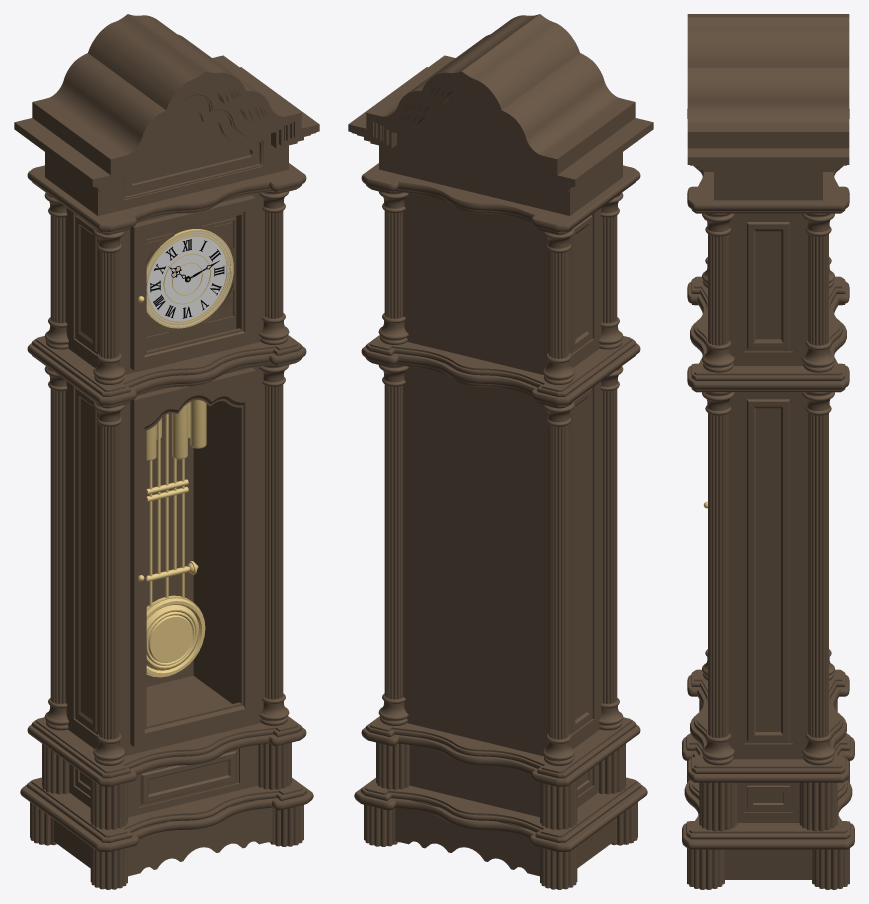
Rendered from Standing_Clock.fbx.
The picture shows the model from 3 angles, left to right: view 1: azimuth 30°, elevation 25°; view 2: azimuth 150°, elevation 25°; view 3: azimuth 270°, elevation 25°; orthographic projection. The views are drawn at different scales.
Visible parts, largest first — view 1: clock, pillar, window.002, window.001, pendulum, disk, I; view 2: clock, pillar; view 3: clock, pillar.
Boxes of the visible parts, x1,y1,x2,y2 form: clock: [14, 14, 319, 876]; pillar: [30, 191, 303, 889]; window.002: [130, 367, 255, 746]; window.001: [130, 195, 255, 370]; pendulum: [146, 414, 205, 677]; disk: [146, 229, 233, 328]; I: [150, 239, 224, 318]; clock: [348, 14, 653, 876]; pillar: [364, 191, 637, 889]; clock: [682, 14, 854, 879]; pillar: [687, 213, 849, 889].
Bounding box in the file's own units: 64.64 × 217 × 41.4.
